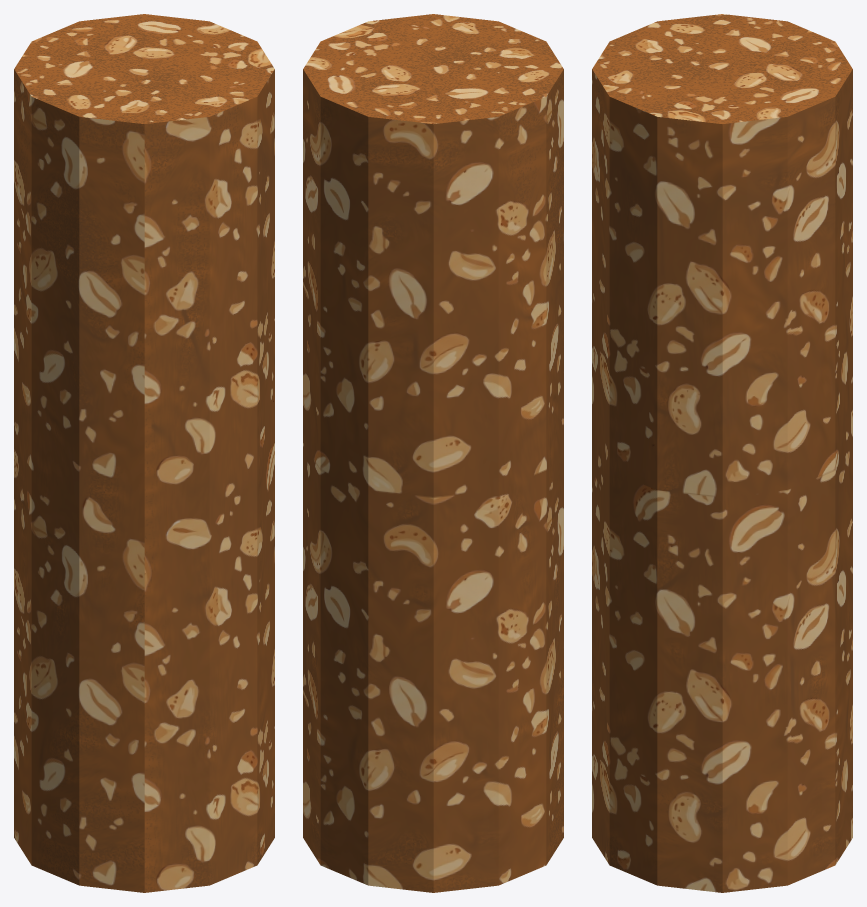
File: gol.fbx
The picture shows the model from 3 angles, left to right: view 1: azimuth 30°, elevation 25°; view 2: azimuth 150°, elevation 25°; view 3: azimuth 270°, elevation 25°; orthographic projection.
Visible parts, largest first — view 1: pasted__pasted__pCylinder3; view 2: pasted__pasted__pCylinder3; view 3: pasted__pasted__pCylinder3.
Boxes of the visible parts, bbox=[...] form: pasted__pasted__pCylinder3: bbox=[14, 14, 274, 892]; pasted__pasted__pCylinder3: bbox=[303, 14, 563, 892]; pasted__pasted__pCylinder3: bbox=[592, 14, 852, 892].
Bounding box in the file's own units: 7.05 × 22.92 × 7.05.
1 material, 1 textured.
